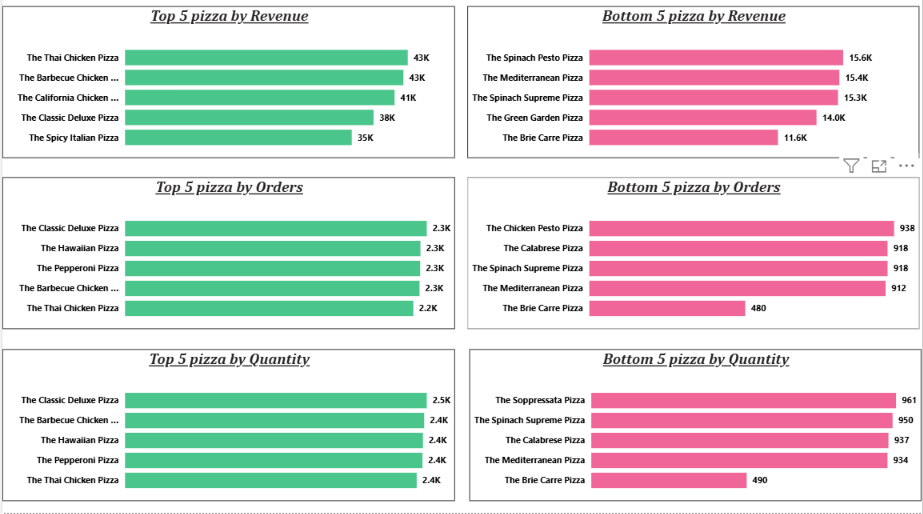

This screenshot's page, from the dashboard's own definition file:
{"tool":"powerbi","page":{"name":"Top/Bottom 5","canvas":[1280,720],"ordinal":2},"visuals":[{"type":"barChart","title":"Top 5 pizza by Revenue","fields":{"Y":["Measures Table.Total Revenue"],"Category":["pizza_sales pizza_sales_raw.pizza_name"]},"box":[0,15.1,629.8,211.3],"z":0},{"type":"barChart","title":"Bottom 5 pizza by Revenue","fields":{"Y":["Measures Table.Total Revenue"],"Category":["pizza_sales pizza_sales_raw.pizza_name"]},"box":[646.3,15.1,629,211.3],"z":1000},{"type":"barChart","title":"Top 5 pizza by Orders","fields":{"Y":["Measures Table.Total Orders"],"Category":["pizza_sales pizza_sales_raw.pizza_name"]},"box":[0,253.9,629.8,211.3],"z":2000},{"type":"barChart","title":"Bottom 5 pizza by Orders","fields":{"Category":["pizza_sales pizza_sales_raw.pizza_name"],"Y":["Measures Table.Total Orders"]},"box":[646.3,253.9,629,211.3],"z":3000},{"type":"barChart","title":"Top 5 pizza by Quantity","fields":{"Y":["Measures Table.Total Pizza Sold"],"Category":["pizza_sales pizza_sales_raw.pizza_name"]},"box":[-0.5,492.6,629.8,211.3],"z":4000},{"type":"barChart","title":"Bottom 5 pizza by Quantity","fields":{"Category":["pizza_sales pizza_sales_raw.pizza_name"],"Y":["Measures Table.Total Pizza Sold"]},"box":[649.9,492.6,629,211.3],"z":5000}]}

Visuals, with their boxes in screenshot pixels (x1, y1, x2, y2), scaled from the page's 1280x720 canvas onto the 923x514 screenshot:
"Top 5 pizza by Revenue" barChart: 0 11 454 162
"Bottom 5 pizza by Revenue" barChart: 466 11 920 162
"Top 5 pizza by Orders" barChart: 0 181 454 332
"Bottom 5 pizza by Orders" barChart: 466 181 920 332
"Top 5 pizza by Quantity" barChart: 0 352 454 503
"Bottom 5 pizza by Quantity" barChart: 469 352 922 503
